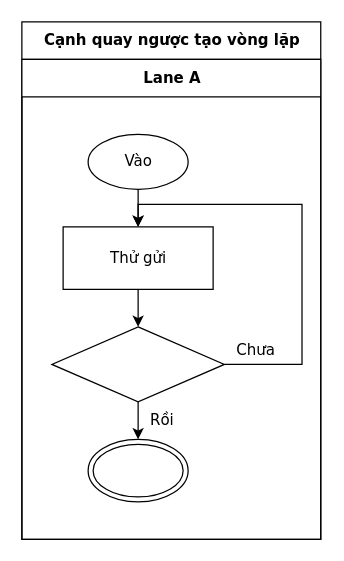
Some shapes in this 344 by 561 pixel diagram are drawn without their labels. Here are the shapes that lost their labels. From the top down, the centre of each, then its label:
At point 137,364: "Thành công?".
At point 137,470: "Xong".
